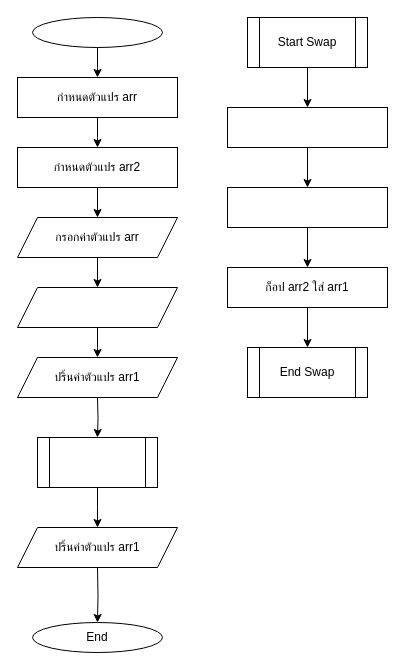
Image size: 405x670. Some labels were removed from this diagram. The shapes that lost their labels are listed below. From the top down, each one's box as (x1, y1, x2, y2) in pixels, then its label:
(32, 16, 162, 48): Start
(226, 106, 388, 148): สลับ arr1
(226, 186, 388, 228): เก็บค่าที่สลับไว้ใน arr2
(16, 286, 178, 328): กรอกค่าตัวแปร arr2
(36, 436, 158, 488): Swap
